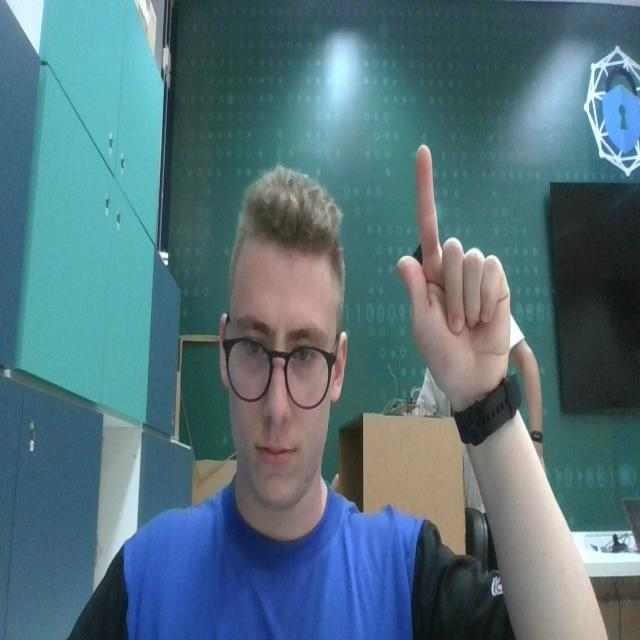G: (395, 135, 511, 400)
